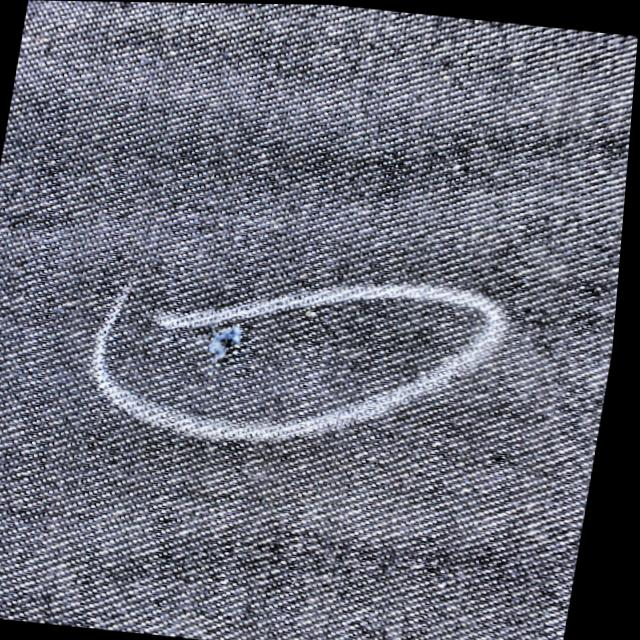Hole: (181, 301, 292, 380)
